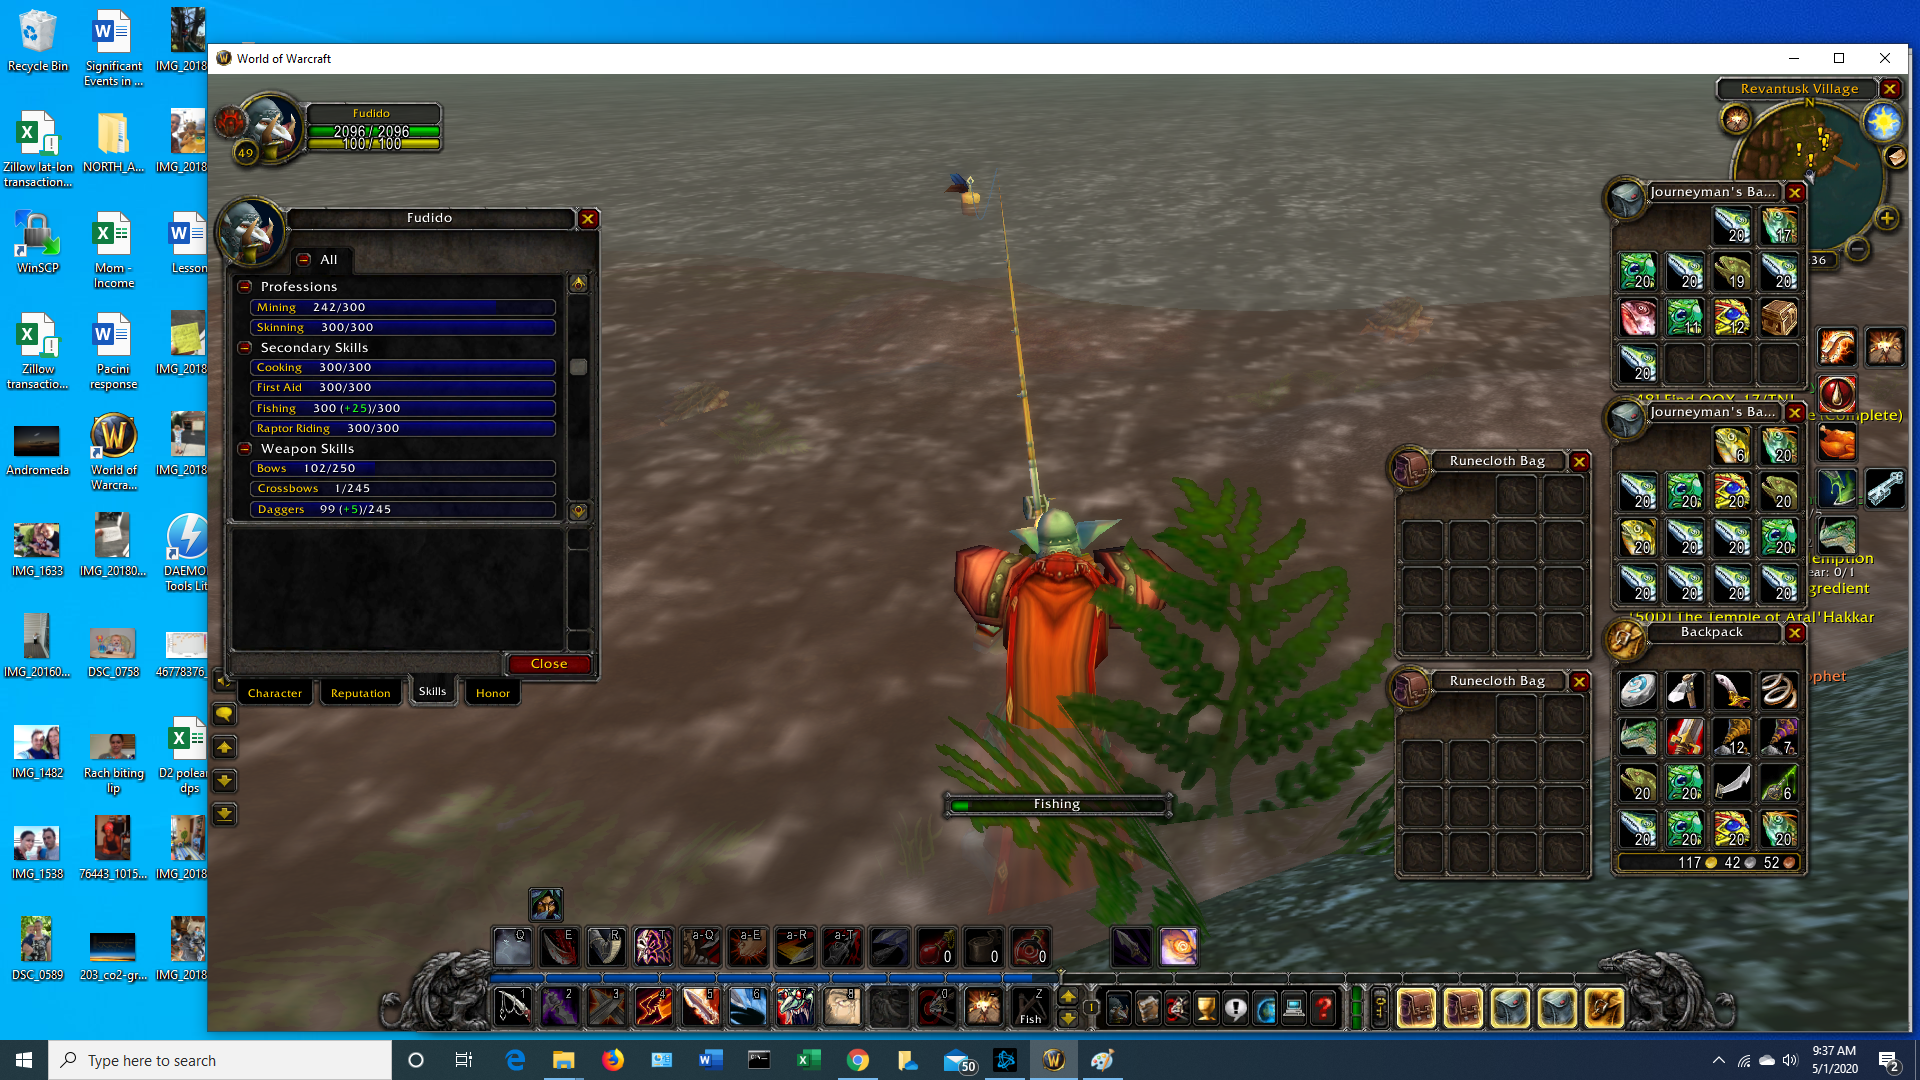bobble: (943, 167, 989, 218)
